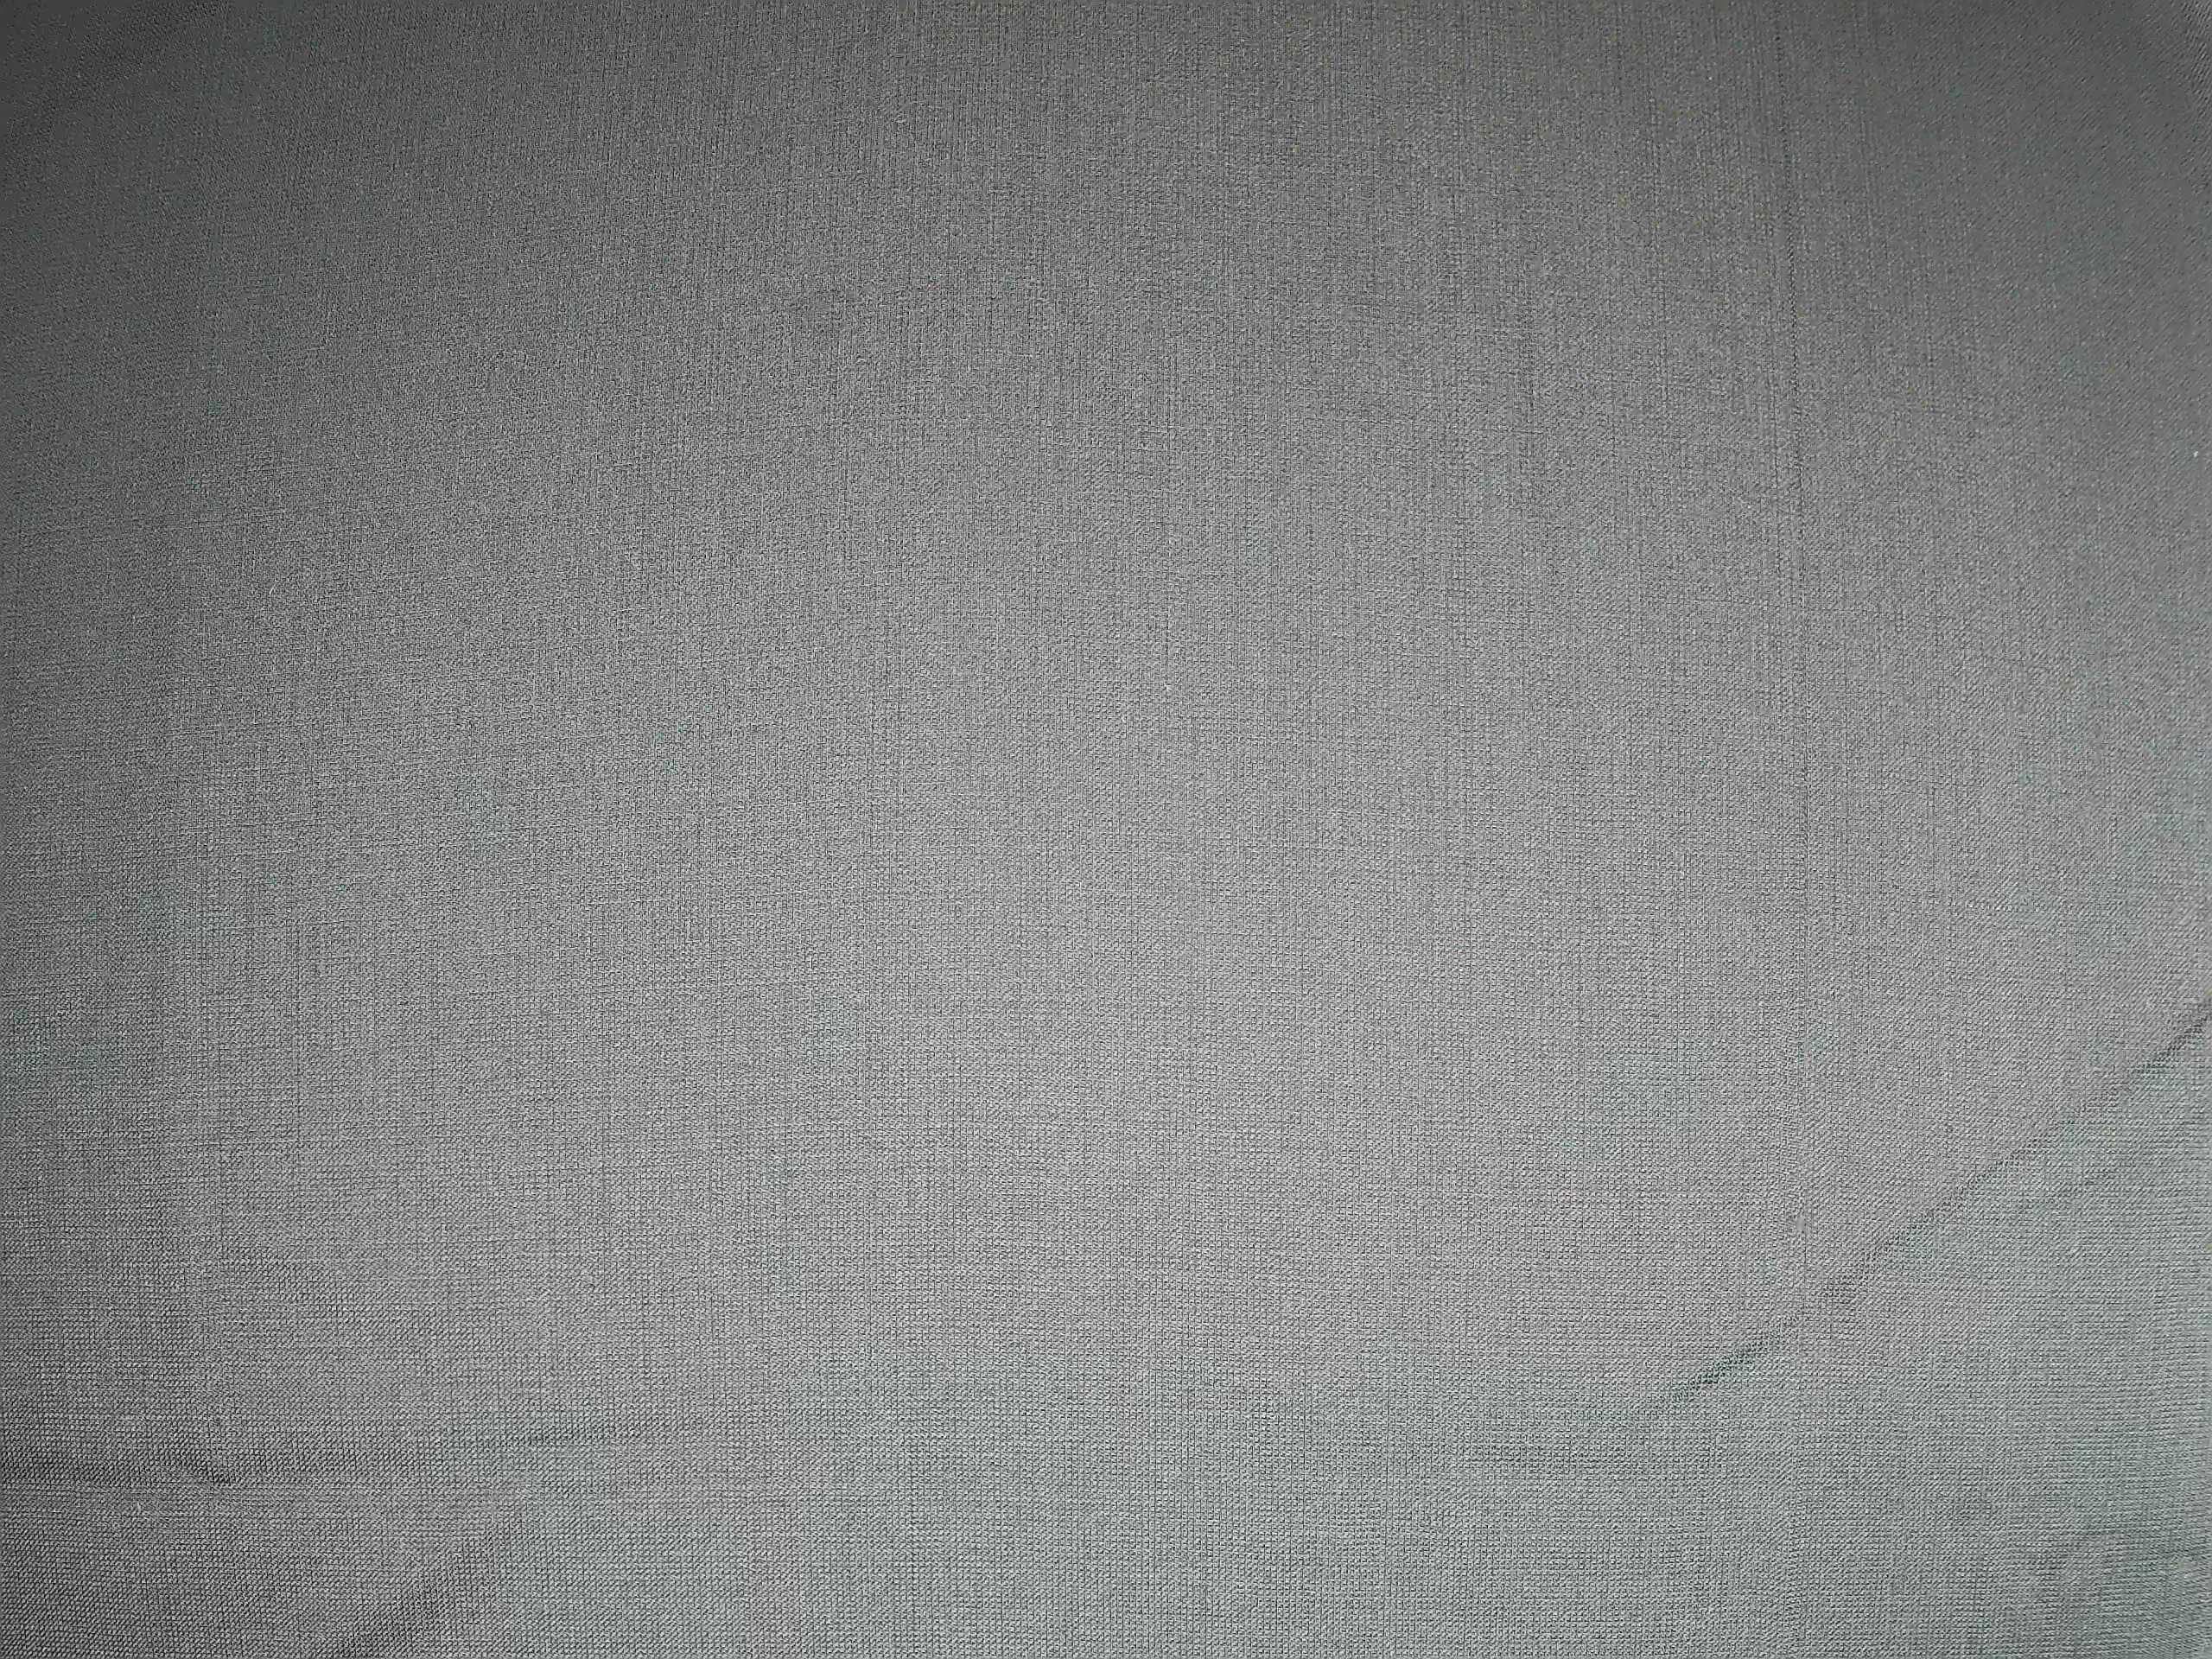dropped_pick: (1766, 3, 1824, 1080)
